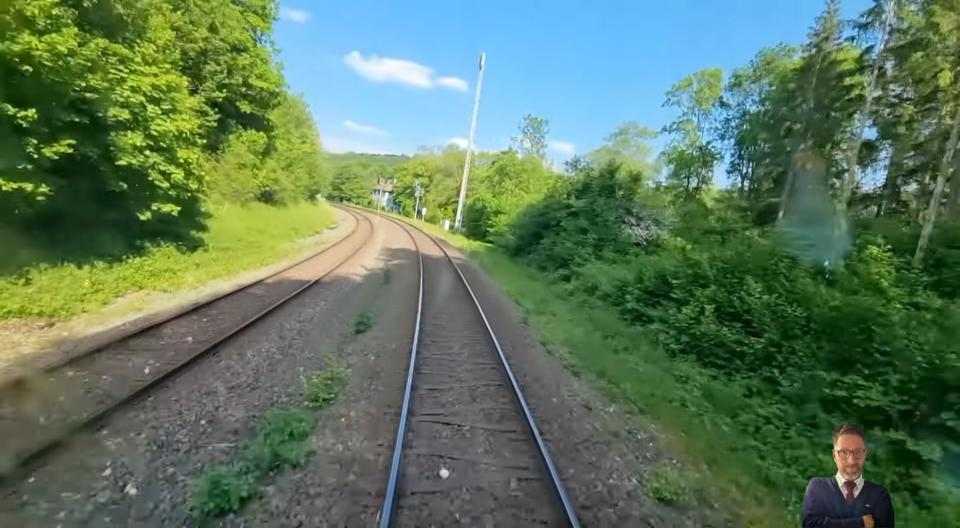Plant: (188, 360, 349, 526), (640, 461, 690, 506), (354, 312, 372, 334), (382, 265, 392, 284)
